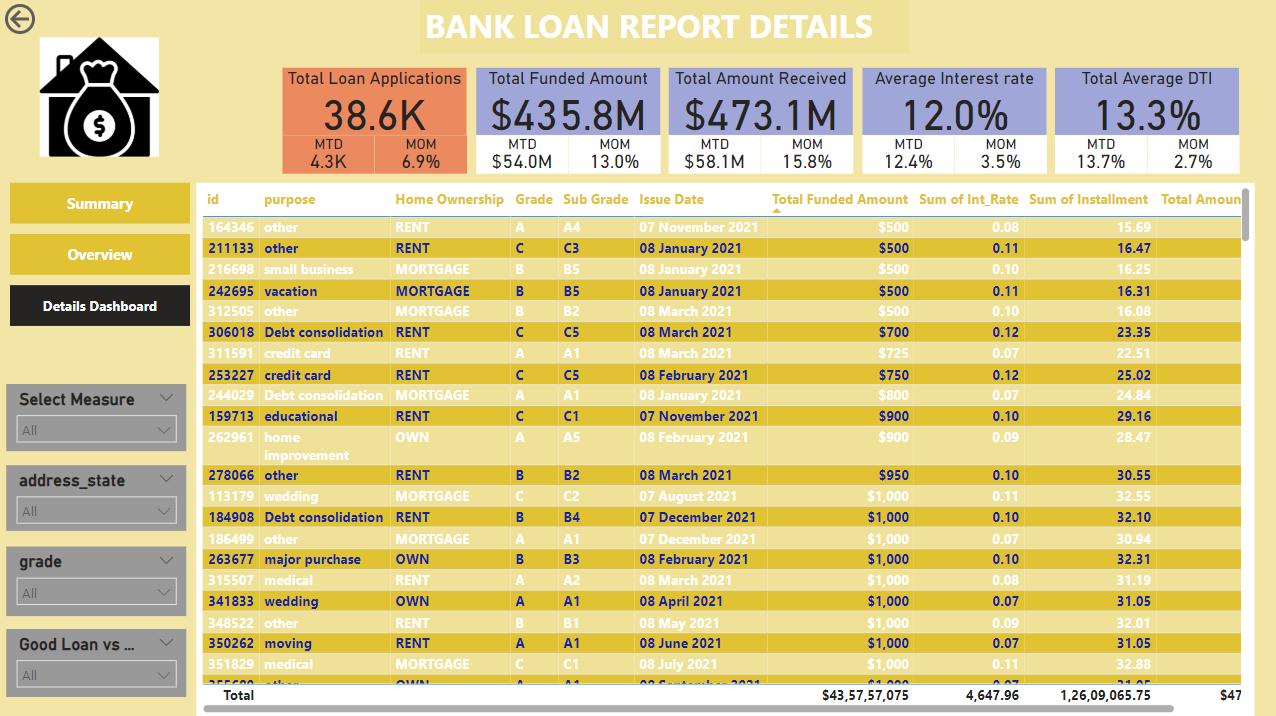

Layout of this report page (visuals, bound fields, positions):
{"tool":"powerbi","page":{"name":"Details Dashboard","canvas":[1280,720],"ordinal":2},"visuals":[{"type":"card","title":"Total Loan Applications","fields":{"Values":["financial_loan.Total Loan Applications"]},"box":[282.2,68.9,183.9,67.2],"z":0,"group":"g5"},{"type":"group","id":"g1","title":"Group 1","box":[476.2,68.9,182.9,105.7],"z":0},{"type":"card","title":"Total Funded Amount","fields":{"Values":["financial_loan.Total funded amount"]},"box":[476.2,68.9,183.9,67.2],"z":0,"group":"g1"},{"type":"card","title":"Total Amount Received","fields":{"Values":["financial_loan.Total Amount Received"]},"box":[669.2,68.9,183.9,67.2],"z":0,"group":"g2"},{"type":"card","title":"Average Interest rate","fields":{"Values":["financial_loan.Average interest rate"]},"box":[862.1,68.9,183.9,67.2],"z":0,"group":"g3"},{"type":"card","title":"Total Average DTI","fields":{"Values":["financial_loan.Total average DTI"]},"box":[1055.1,68.9,183.9,67.2],"z":0,"group":"g4"},{"type":"group","id":"g2","title":"Group 1","box":[669.2,68.9,182.9,105.7],"z":1000},{"type":"card","title":"MTD","fields":{"Values":["financial_loan.MTD Loan applications"]},"box":[282.2,136.1,91.9,38.4],"z":1000,"group":"g5"},{"type":"card","title":"MTD","fields":{"Values":["financial_loan.MTD funded amount"]},"box":[476.2,136.1,91.9,38.4],"z":1000,"group":"g1"},{"type":"card","title":"MTD","fields":{"Values":["financial_loan.MTD Total Amount Received"]},"box":[669.2,136.1,91.9,38.4],"z":1000,"group":"g2"},{"type":"card","title":"MTD","fields":{"Values":["financial_loan.MTD Average Interest rate"]},"box":[862.1,136.1,91.9,38.4],"z":1000,"group":"g3"},{"type":"card","title":"MTD","fields":{"Values":["financial_loan.MTD TOTAL AVERAGE DTI"]},"box":[1055.1,136.1,91.9,38.4],"z":1000,"group":"g4"},{"type":"group","id":"g3","title":"Group 1","box":[862.1,68.9,182.9,105.7],"z":2000},{"type":"card","title":"MOM","fields":{"Values":["financial_loan.MOM Loan applications"]},"box":[374.1,136.1,91.9,38.4],"z":2000,"group":"g5"},{"type":"card","title":"MOM","fields":{"Values":["financial_loan.MOM total funded amount"]},"box":[568.1,136.1,91.9,38.4],"z":2000,"group":"g1"},{"type":"card","title":"MOM","fields":{"Values":["financial_loan.MOM Total Amount Received"]},"box":[761.1,136.1,91.9,38.4],"z":2000,"group":"g2"},{"type":"card","title":"MOM","fields":{"Values":["financial_loan.MOM total average unterest rate"]},"box":[954,136.1,91.9,38.4],"z":2000,"group":"g3"},{"type":"card","title":"MOM","fields":{"Values":["financial_loan.MOM Average DTI"]},"box":[1147,136.1,91.9,38.4],"z":2000,"group":"g4"},{"type":"group","id":"g4","title":"Group 1","box":[1055.1,68.9,182.9,105.7],"z":3000},{"type":"group","id":"g5","title":"Group 1","box":[282.2,68.9,183.9,105.7],"z":4000},{"type":"actionButton","box":[0,0,100,40],"z":5000},{"type":"slicer","fields":{"Values":["financial_loan.address_state"]},"box":[6.1,466.1,180.1,65.7],"z":6000},{"type":"slicer","fields":{"Values":["financial_loan.grade"]},"box":[6.1,547.6,180.1,69.4],"z":7000},{"type":"slicer","fields":{"Values":["financial_loan.Good Loan vs Bad Loan"]},"box":[6.1,630.4,180.1,68.2],"z":8000},{"type":"textbox","box":[419.8,0,488.6,54.3],"z":9000},{"type":"slicer","fields":{"Values":["Select Measure.Select Measure"]},"box":[6.1,384.6,180.1,66.9],"z":10000},{"type":"tableEx","fields":{"Values":["financial_loan.id","financial_loan.purpose","financial_loan.home_ownership","financial_loan.grade","financial_loan.sub_grade","financial_loan.issue_date","financial_loan.Total funded amount","Sum(financial_loan.int_rate)","Sum(financial_loan.installment)","financial_loan.Total Amount Received"]},"box":[195.9,183.8,1058.8,535.5],"z":11000},{"type":"pageNavigator","box":[9.7,183.8,180.1,144.8],"z":12000},{"type":"image","box":[35.3,19.5,129,155.8],"z":13000}]}

Visuals, with their boxes in screenshot pixels (x1, y1, x2, y2), scaled from the page's 1280x720 canvas onto the 1276x716 screenshot:
"Total Loan Applications" card: bbox=[281, 69, 465, 135]
"Group 1" group: bbox=[475, 69, 657, 174]
"Total Funded Amount" card: bbox=[475, 69, 658, 135]
"Total Amount Received" card: bbox=[667, 69, 850, 135]
"Average Interest rate" card: bbox=[859, 69, 1043, 135]
"Total Average DTI" card: bbox=[1052, 69, 1235, 135]
"Group 1" group: bbox=[667, 69, 849, 174]
"MTD" card: bbox=[281, 135, 373, 174]
"MTD" card: bbox=[475, 135, 566, 174]
"MTD" card: bbox=[667, 135, 759, 174]
"MTD" card: bbox=[859, 135, 951, 174]
"MTD" card: bbox=[1052, 135, 1143, 174]
"Group 1" group: bbox=[859, 69, 1042, 174]
"MOM" card: bbox=[373, 135, 465, 174]
"MOM" card: bbox=[566, 135, 658, 174]
"MOM" card: bbox=[759, 135, 850, 174]
"MOM" card: bbox=[951, 135, 1043, 174]
"MOM" card: bbox=[1143, 135, 1235, 174]
"Group 1" group: bbox=[1052, 69, 1234, 174]
"Group 1" group: bbox=[281, 69, 465, 174]
actionButton: bbox=[0, 0, 100, 40]
slicer - financial_loan.address_state: bbox=[6, 464, 186, 529]
slicer - financial_loan.grade: bbox=[6, 545, 186, 614]
slicer - financial_loan.Good Loan vs Bad Loan: bbox=[6, 627, 186, 695]
textbox: bbox=[418, 0, 906, 54]
slicer - Select Measure.Select Measure: bbox=[6, 382, 186, 449]
tableEx - financial_loan.id x financial_loan.purpose: bbox=[195, 183, 1251, 715]
pageNavigator: bbox=[10, 183, 189, 327]
image: bbox=[35, 19, 164, 174]
